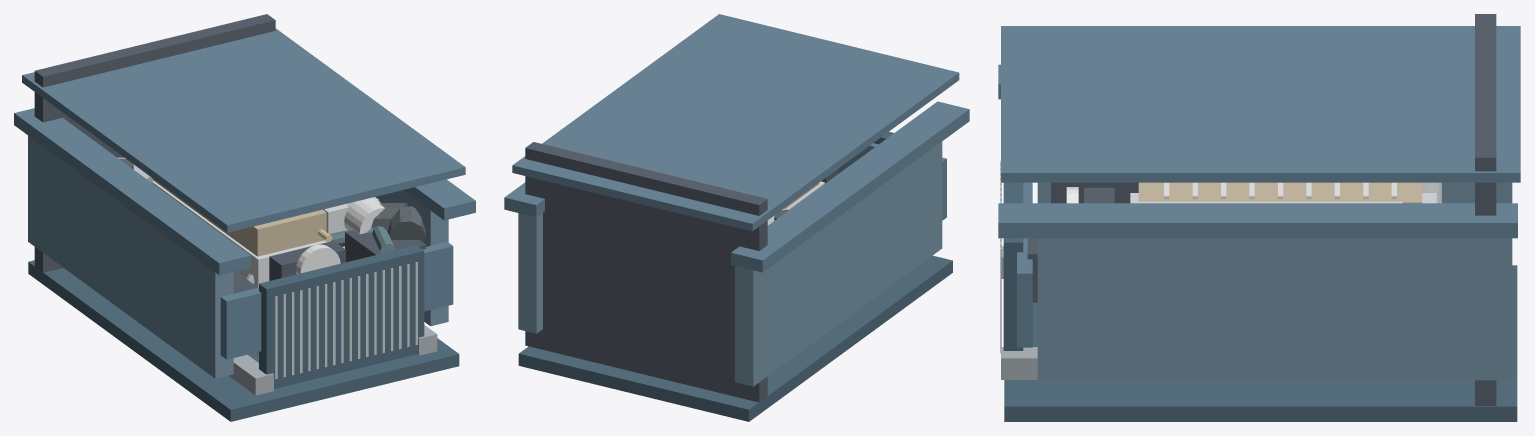
File: ix_m20_engine_bay.glb
The picture shows the model from 3 angles, left to right: view 1: azimuth 30°, elevation 25°; view 2: azimuth 150°, elevation 25°; view 3: azimuth 270°, elevation 25°; orthographic projection. The views are drawn at different scales.
Parts seen in each view (by area): view 1: MX:bonnet:1, MX:engine_bay:1, MX:radiator:1, MX:bay_floor:1, MX:engine_bay:2, MX:bulkhead:1, MX:radiator_support:1, MX:valve_cover:1, MX:engine_bay:5, MX:engine_bay:4, MX:intake_hose:1, MX:cylinder_head:1 (+8 smaller); view 2: MX:bonnet:1, MX:bulkhead:1, MX:engine_bay:1, MX:bay_floor:1, MX:engine_bay:2, MX:engine_bay:4, MX:engine_bay:5, MX:radiator_support:1; view 3: MX:bonnet:1, MX:engine_bay:4, MX:bay_floor:1, MX:engine_bay:5, MX:valve_cover:1, MX:bulkhead:1, MX:radiator:1, MX:radiator_support:1, MX:engine_bay:1, MX:battery:1, MX:engine_bay:6, MX:intake_plenum:1 (+2 smaller).
Part boxes in pixels (bbox=[...]): MX:bonnet:1: bbox=[22, 28, 465, 232]; MX:engine_bay:1: bbox=[28, 135, 233, 378]; MX:radiator:1: bbox=[259, 245, 424, 388]; MX:bay_floor:1: bbox=[28, 260, 459, 421]; MX:engine_bay:2: bbox=[14, 108, 250, 275]; MX:bulkhead:1: bbox=[34, 14, 275, 272]; MX:radiator_support:1: bbox=[220, 241, 453, 359]; MX:valve_cover:1: bbox=[152, 178, 326, 256]; MX:engine_bay:5: bbox=[403, 179, 475, 220]; MX:engine_bay:4: bbox=[375, 190, 448, 326]; MX:intake_hose:1: bbox=[371, 203, 425, 242]; MX:cylinder_head:1: bbox=[152, 180, 327, 287]; MX:bonnet:1: bbox=[512, 14, 959, 231]; MX:bulkhead:1: bbox=[525, 142, 767, 402]; MX:engine_bay:1: bbox=[735, 141, 942, 386]; MX:bay_floor:1: bbox=[518, 255, 952, 421]; MX:engine_bay:2: bbox=[731, 101, 969, 272]; MX:engine_bay:4: bbox=[518, 213, 542, 333]; MX:engine_bay:5: bbox=[504, 182, 544, 217]; MX:radiator_support:1: bbox=[838, 143, 946, 220]; MX:bonnet:1: bbox=[1001, 26, 1520, 182]; MX:engine_bay:4: bbox=[1037, 238, 1512, 380]; MX:bay_floor:1: bbox=[1004, 265, 1517, 421]; MX:engine_bay:5: bbox=[998, 203, 1517, 238]; MX:valve_cover:1: bbox=[1138, 182, 1422, 203]; MX:bulkhead:1: bbox=[1475, 14, 1496, 405]; MX:radiator:1: bbox=[1003, 182, 1023, 350]; MX:radiator_support:1: bbox=[1017, 182, 1032, 347]; MX:engine_bay:1: bbox=[1037, 182, 1512, 203]; MX:battery:1: bbox=[1051, 182, 1138, 203]; MX:engine_bay:6: bbox=[1001, 347, 1037, 379]; MX:intake_plenum:1: bbox=[1136, 201, 1402, 203].
Bounding box in the file's own units: 2.67 × 2.21 × 3.72.
